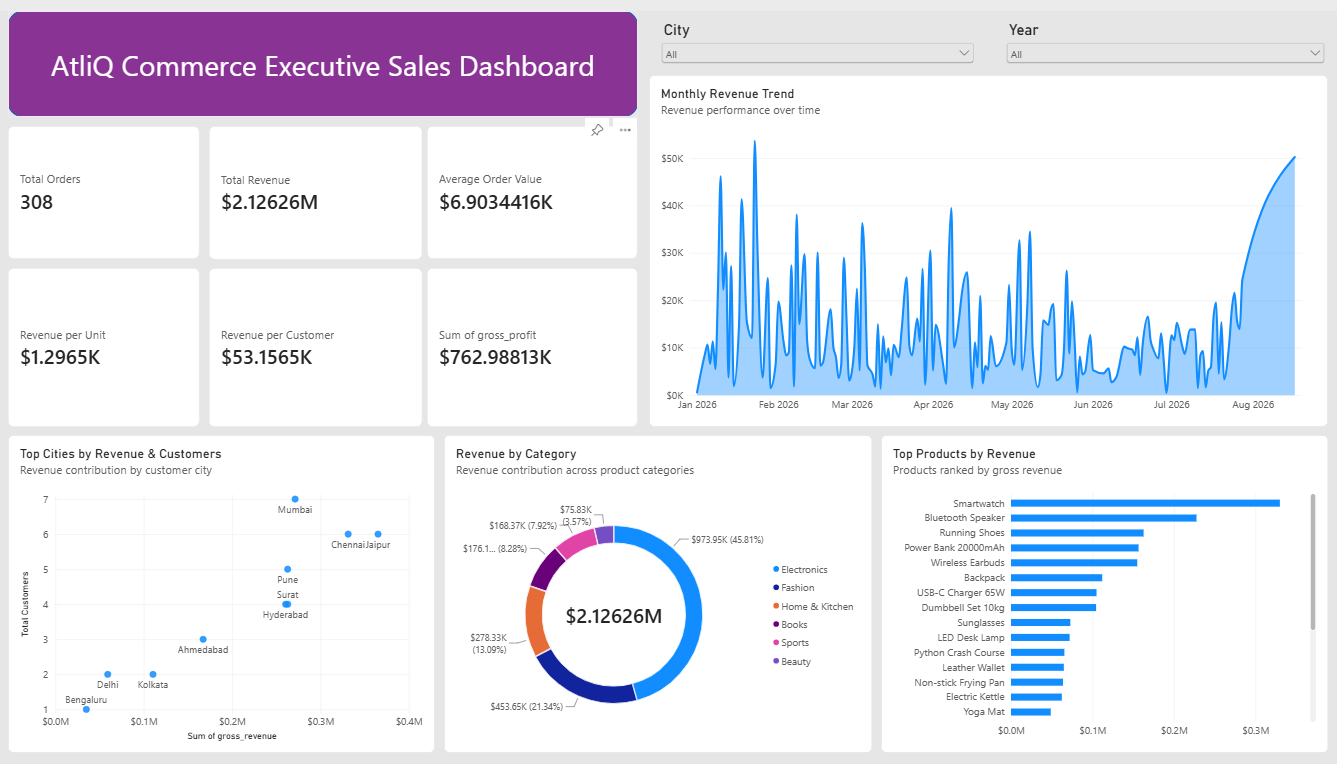

The dashboard page shown, as its layout file describes it:
{"tool":"powerbi","page":{"name":"Dashboard","canvas":[1920,1080],"ordinal":1},"visuals":[{"type":"lineChart","title":"Monthly Revenue Trend","fields":{"Category":["fact_sales.order_date"],"Y":["dim_customer.Total Revenue"]},"box":[920.1,90.6,961.1,498.2],"z":0},{"type":"barChart","title":"Top Products by Revenue","fields":{"Category":["dim_product.product_name"],"Y":["Sum(fact_sales.gross_revenue)"]},"box":[1248.4,600.2,632.7,450.1],"z":1000},{"type":"scatterChart","title":"Top Cities by Revenue & Customers","fields":{"Category":["dim_customer.city"],"X":["Sum(fact_sales.gross_revenue)"],"Y":["dim_customer.Total Customers"]},"box":[12.7,600.2,604.4,450.1],"z":2000},{"type":"donutChart","title":"Revenue by Category","fields":{"Category":["dim_product.category"],"Y":["dim_customer.Total Revenue"]},"box":[629.9,600.2,605.8,450.1],"z":3000},{"type":"cardVisual","fields":{"Data":["dim_customer.Total Orders"]},"box":[12.7,162.8,271.8,188.3],"z":4000},{"type":"cardVisual","fields":{"Data":["dim_customer.Total Revenue"]},"box":[297.2,162.8,302.9,189.7],"z":5000},{"type":"cardVisual","fields":{"Data":["dim_customer.Average Order Value"]},"box":[605.8,162.8,298.7,188.3],"z":6000},{"type":"shape","box":[12.7,0,891.7,150],"z":7000},{"type":"cardVisual","fields":{"Data":["dim_customer.Revenue per Unit"]},"box":[12.7,363.8,271.8,225.1],"z":8000},{"type":"cardVisual","fields":{"Data":["dim_customer.Revenue per Customer"]},"box":[297.2,363.8,302.9,225.1],"z":9000},{"type":"cardVisual","fields":{"Data":["Sum(fact_sales.gross_profit)"]},"box":[605.8,363.8,298.7,225.1],"z":10000},{"type":"slicer","fields":{"Values":["dim_date.year","dim_date.day"]},"box":[1421.1,14.2,460,60.9],"z":11000},{"type":"slicer","fields":{"Values":["dim_customer.city"]},"box":[932.8,14.2,451.5,76.4],"z":12000}]}

Visuals, with their boxes in screenshot pixels (x1, y1, x2, y2), scaled from the page's 1920x1080 canvas onto the 1337x764 screenshot:
"Monthly Revenue Trend" lineChart: {"x1": 641, "y1": 64, "x2": 1310, "y2": 417}
"Top Products by Revenue" barChart: {"x1": 869, "y1": 425, "x2": 1310, "y2": 743}
"Top Cities by Revenue & Customers" scatterChart: {"x1": 9, "y1": 425, "x2": 430, "y2": 743}
"Revenue by Category" donutChart: {"x1": 439, "y1": 425, "x2": 860, "y2": 743}
cardVisual - dim_customer.Total Orders: {"x1": 9, "y1": 115, "x2": 198, "y2": 248}
cardVisual - dim_customer.Total Revenue: {"x1": 207, "y1": 115, "x2": 418, "y2": 249}
cardVisual - dim_customer.Average Order Value: {"x1": 422, "y1": 115, "x2": 630, "y2": 248}
shape: {"x1": 9, "y1": 0, "x2": 630, "y2": 106}
cardVisual - dim_customer.Revenue per Unit: {"x1": 9, "y1": 257, "x2": 198, "y2": 417}
cardVisual - dim_customer.Revenue per Customer: {"x1": 207, "y1": 257, "x2": 418, "y2": 417}
cardVisual - Sum(fact_sales.gross_profit): {"x1": 422, "y1": 257, "x2": 630, "y2": 417}
slicer - dim_date.year x dim_date.day: {"x1": 990, "y1": 10, "x2": 1310, "y2": 53}
slicer - dim_customer.city: {"x1": 650, "y1": 10, "x2": 964, "y2": 64}
